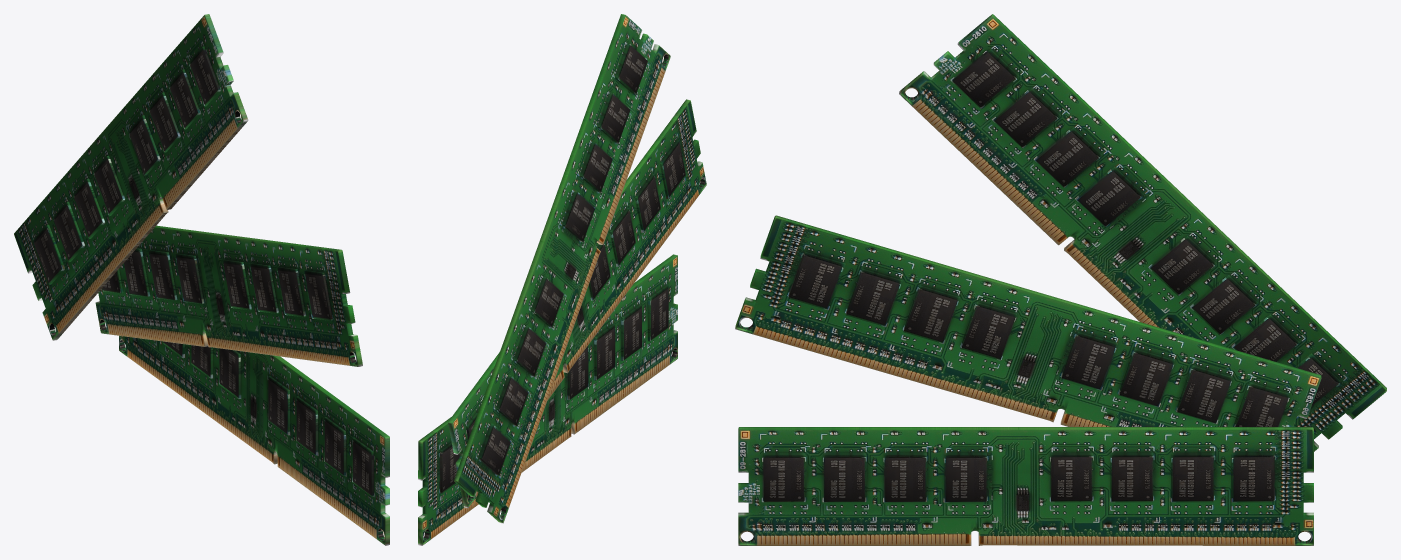
Rendered from random_access_memory_-_ram_stick_-_pc.glb.
3 renders of one model, left to right at view 1: azimuth 30°, elevation 25°; view 2: azimuth 150°, elevation 25°; view 3: azimuth 270°, elevation 25°, orthographic. The views are drawn at different scales.
Visible parts, largest first — view 1: Cube.003, Cube.002, Cube; view 2: Cube.003, Cube, Cube.002; view 3: Cube, Cube.002, Cube.003.
Part boxes in pixels (x1=…): Cube.003: x1=14, y1=14, x2=248, y2=340; Cube.002: x1=95, y1=225, x2=362, y2=366; Cube: x1=119, y1=336, x2=389, y2=545; Cube.003: x1=454, y1=14, x2=670, y2=523; Cube: x1=418, y1=254, x2=677, y2=545; Cube.002: x1=448, y1=99, x2=706, y2=508; Cube: x1=738, y1=427, x2=1313, y2=545; Cube.002: x1=735, y1=215, x2=1321, y2=426; Cube.003: x1=899, y1=14, x2=1386, y2=451.
Bounding box in the file's own units: 0.825 × 4.43 × 5.27.
Materials: 1 (1 with a texture image).
